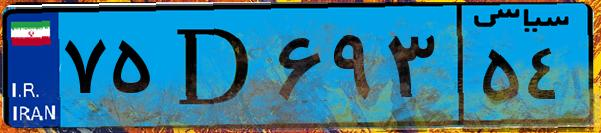3: (385, 28, 445, 110)
4: (525, 38, 570, 115)
5: (475, 38, 525, 113), (110, 28, 158, 98)
6: (270, 28, 330, 110)
7: (57, 26, 110, 100)
9: (330, 28, 385, 110)
D: (158, 12, 270, 120)
